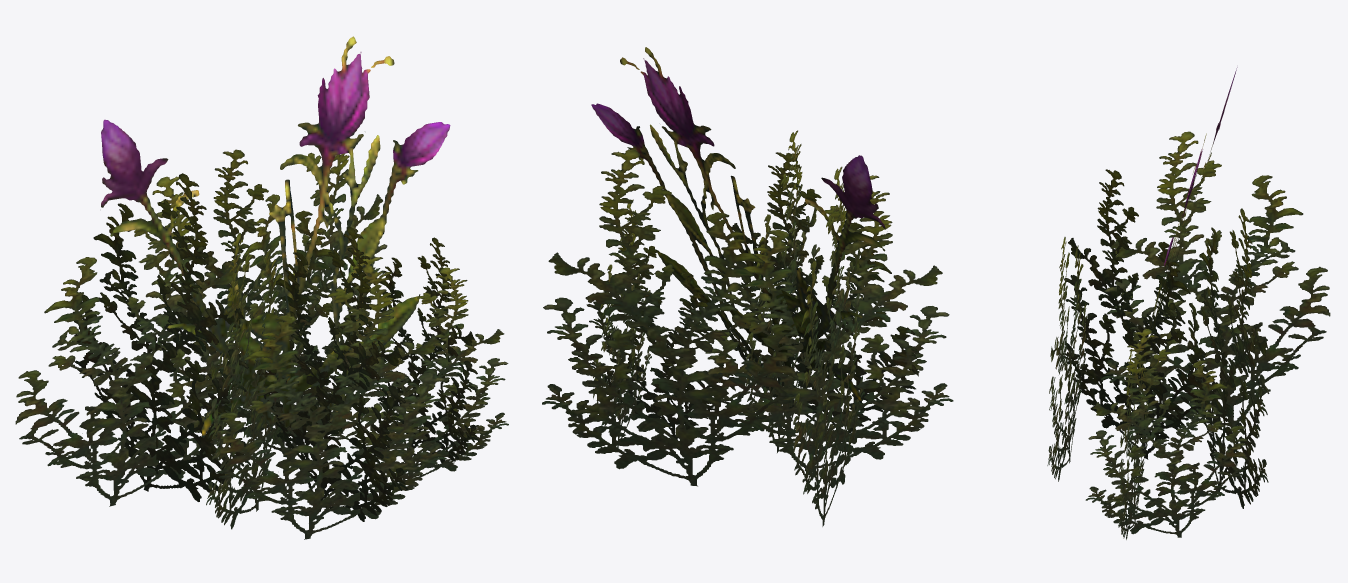
The model's file is yw_huanghunbianjing_guanmu01.FBX.
The picture shows the model from 3 angles, left to right: view 1: azimuth 30°, elevation 25°; view 2: azimuth 150°, elevation 25°; view 3: azimuth 270°, elevation 25°; orthographic projection. The views are drawn at different scales.
Visible parts, largest first — view 1: yw_huanghunbianjing_guanmu01; view 2: yw_huanghunbianjing_guanmu01; view 3: yw_huanghunbianjing_guanmu01.
Boxes of the visible parts, x1,y1,x2,y2 form: yw_huanghunbianjing_guanmu01: [15, 36, 508, 539]; yw_huanghunbianjing_guanmu01: [542, 47, 953, 526]; yw_huanghunbianjing_guanmu01: [1047, 67, 1330, 539].
Bounding box in the file's own units: 153 × 144 × 111.
